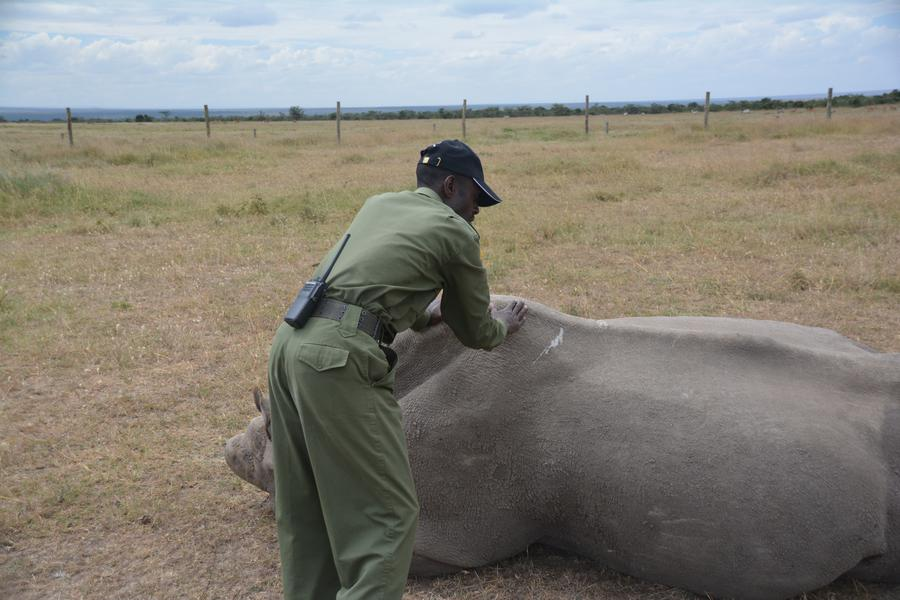rhino: (401, 326, 893, 563)
